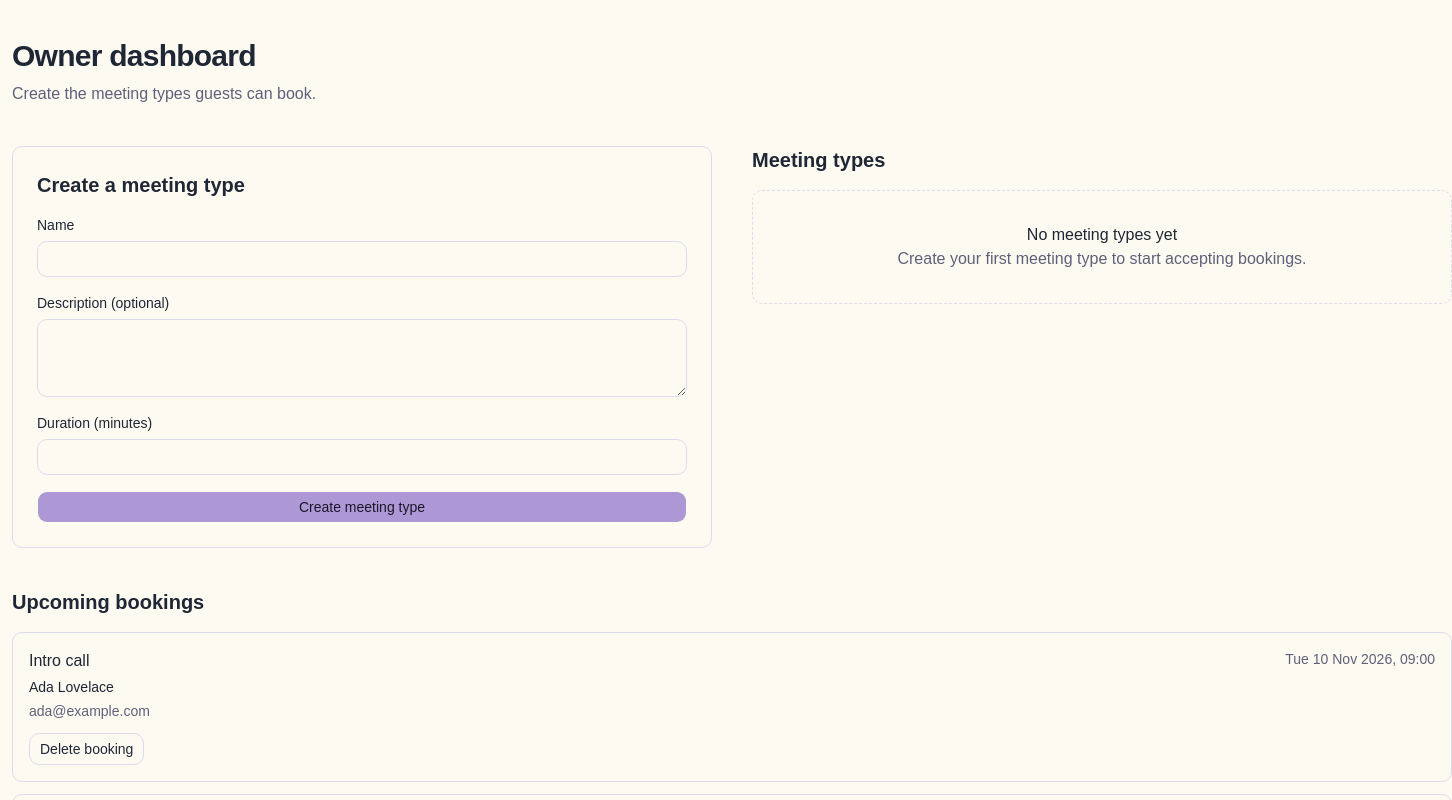
it: OwnerDashboardPage › deleting a booking › keeps the row and shows an inline error with retry on other failures
Click the button "Delete booking": {"x": 87, "y": 749} [29,733,144,765]
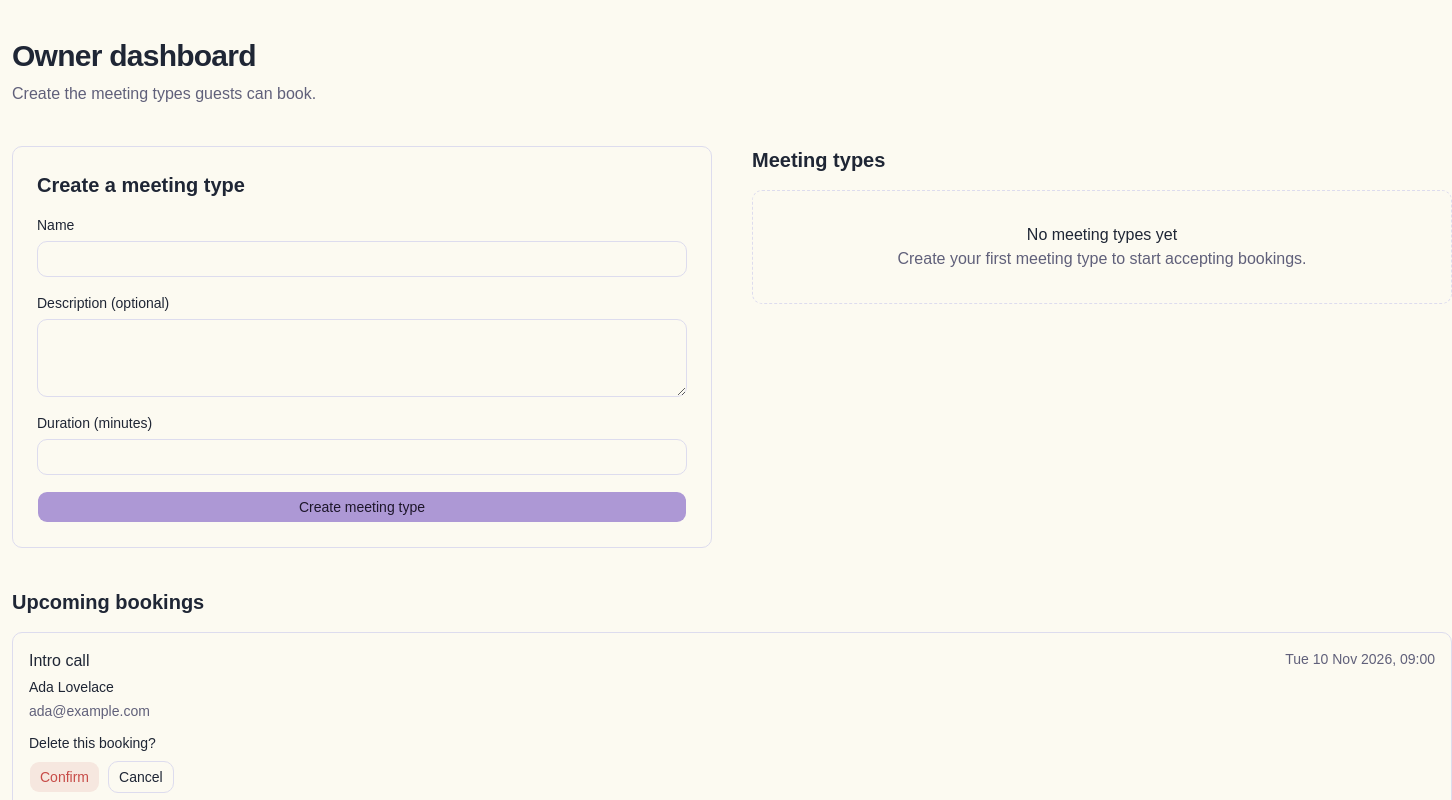
Click the button "Confirm": {"x": 64, "y": 777} [29,761,100,793]
(page scrolled)
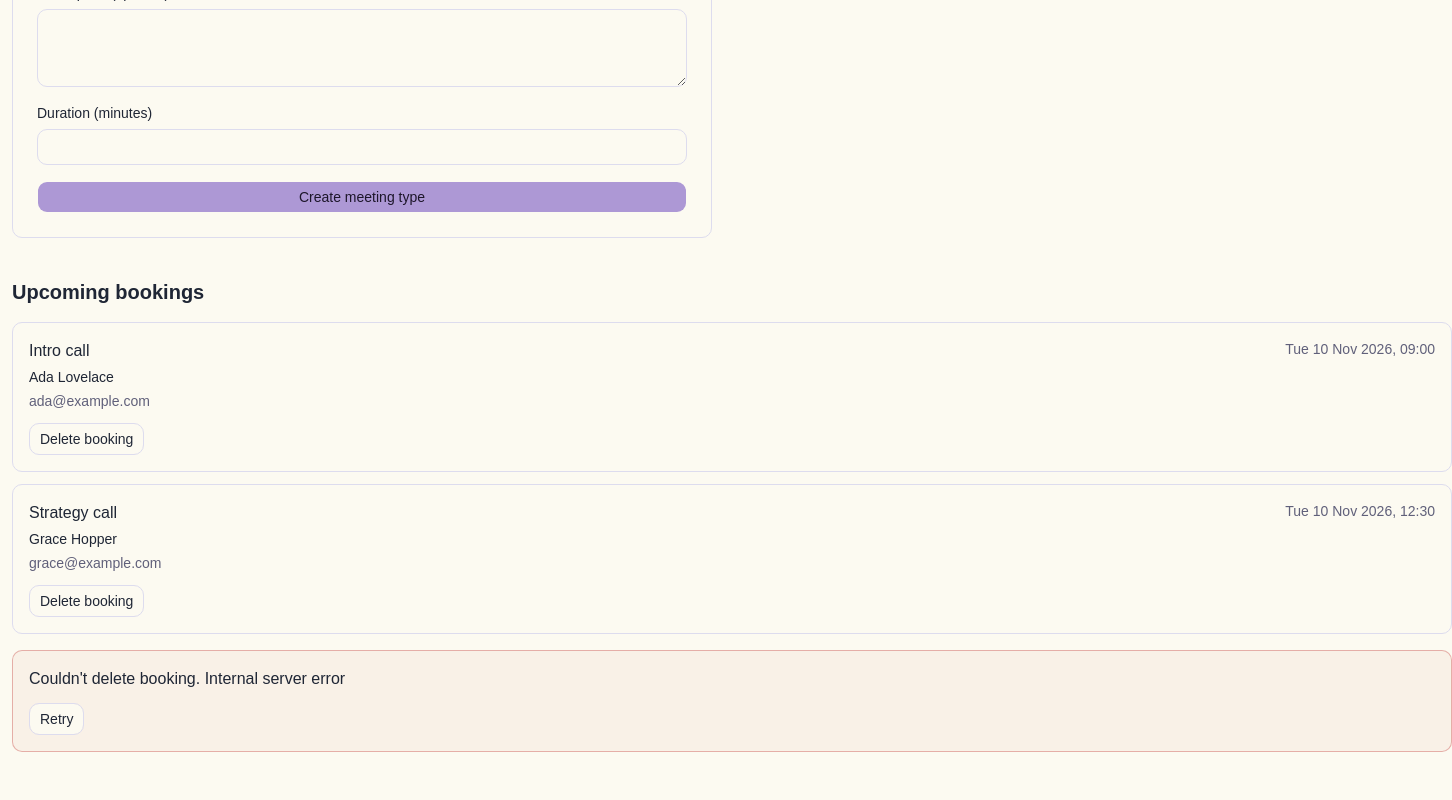
Expected: the text "Ada Lovelace" is shown, [29,369,114,385]
Result: the message shows "Couldn't delete booking." at [29,670,205,687]
Click the button "Retry": {"x": 57, "y": 719} [29,703,84,735]
(page scrolled)
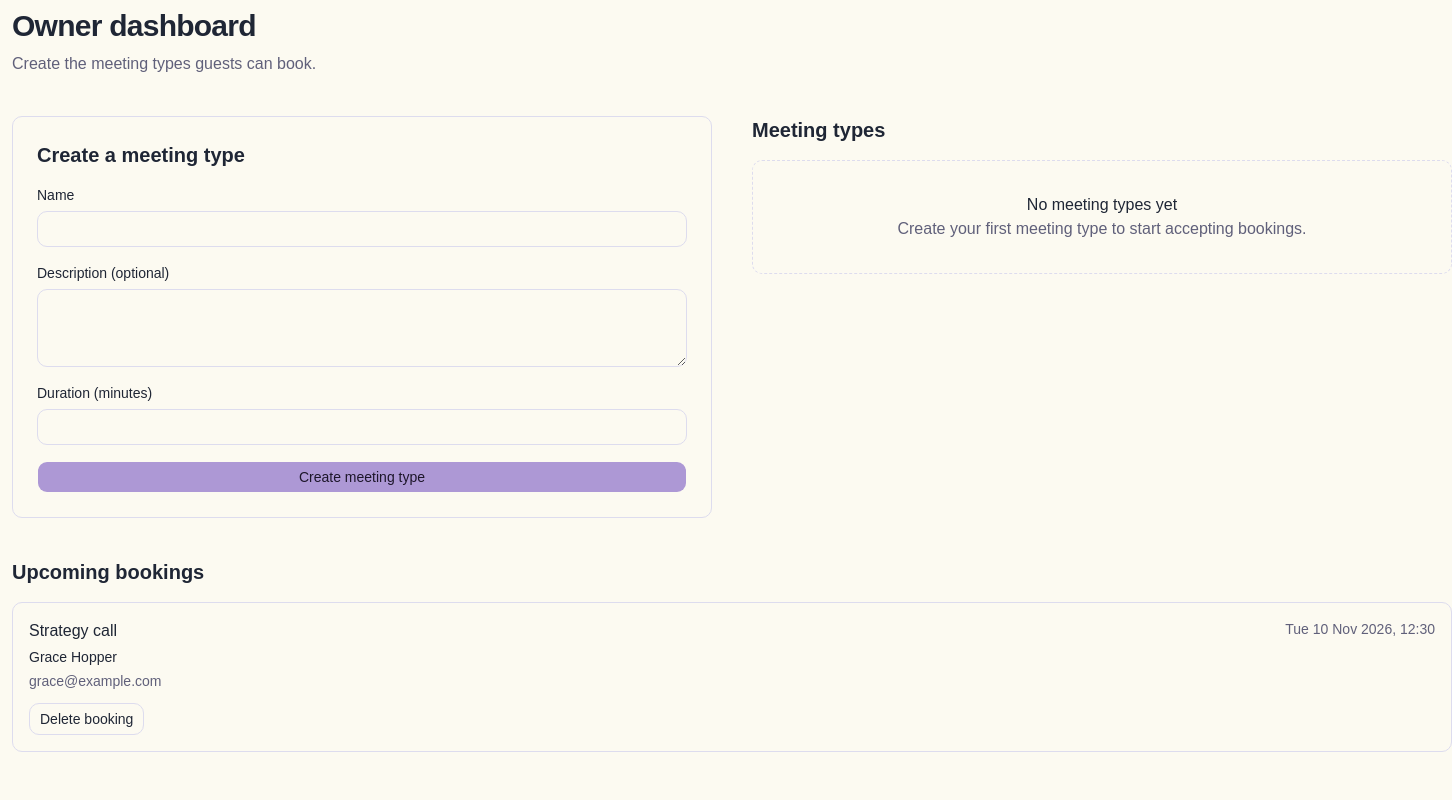
Result: the text "Ada Lovelace" is gone
